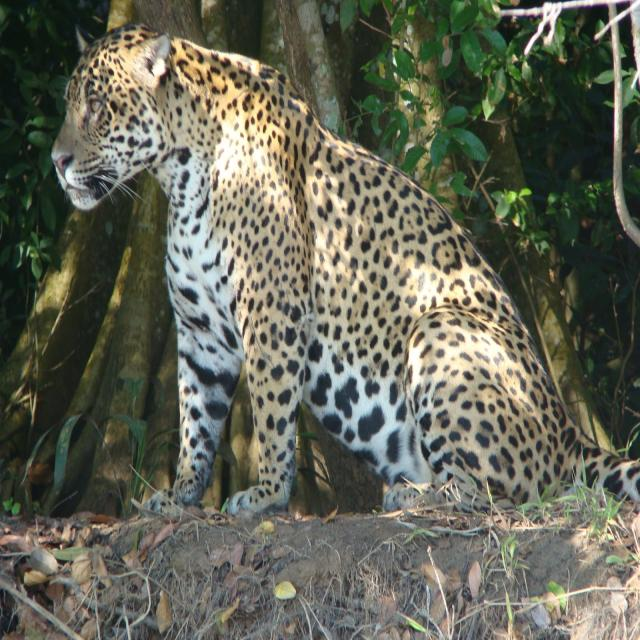Jaguar: (49, 20, 640, 515)
